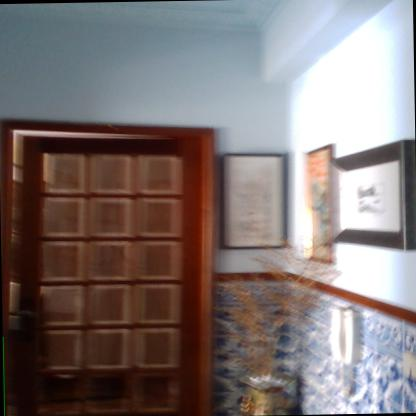closed: (0, 101, 233, 415)
